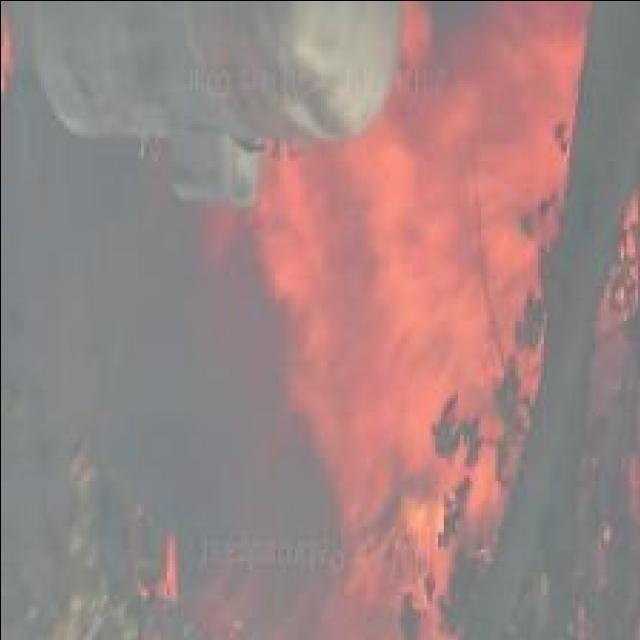Fire: (152, 3, 640, 640)
